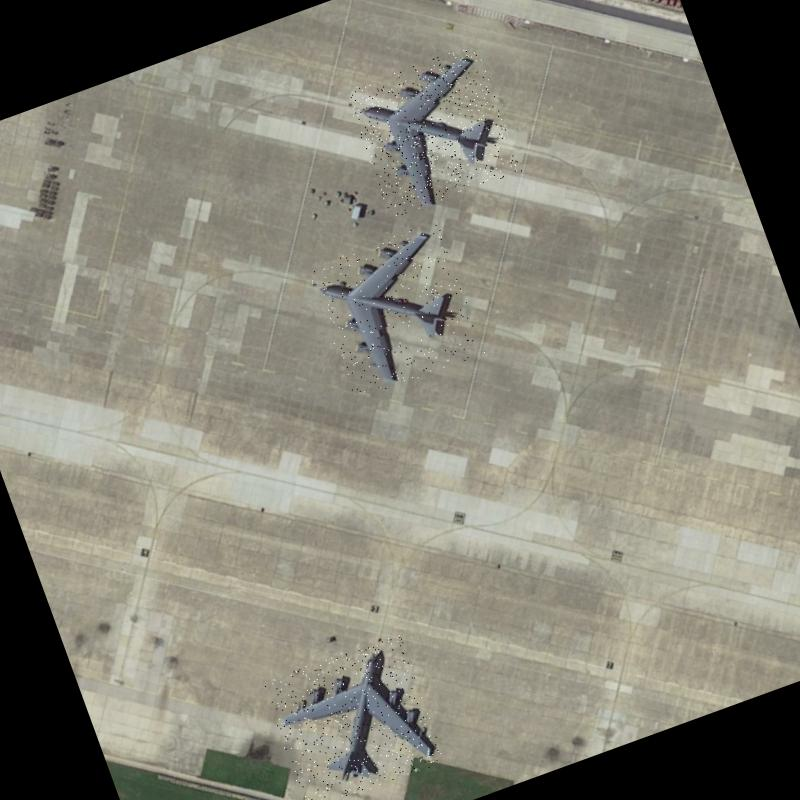A8: (306, 220, 485, 400), (343, 42, 522, 218), (260, 631, 446, 800)
